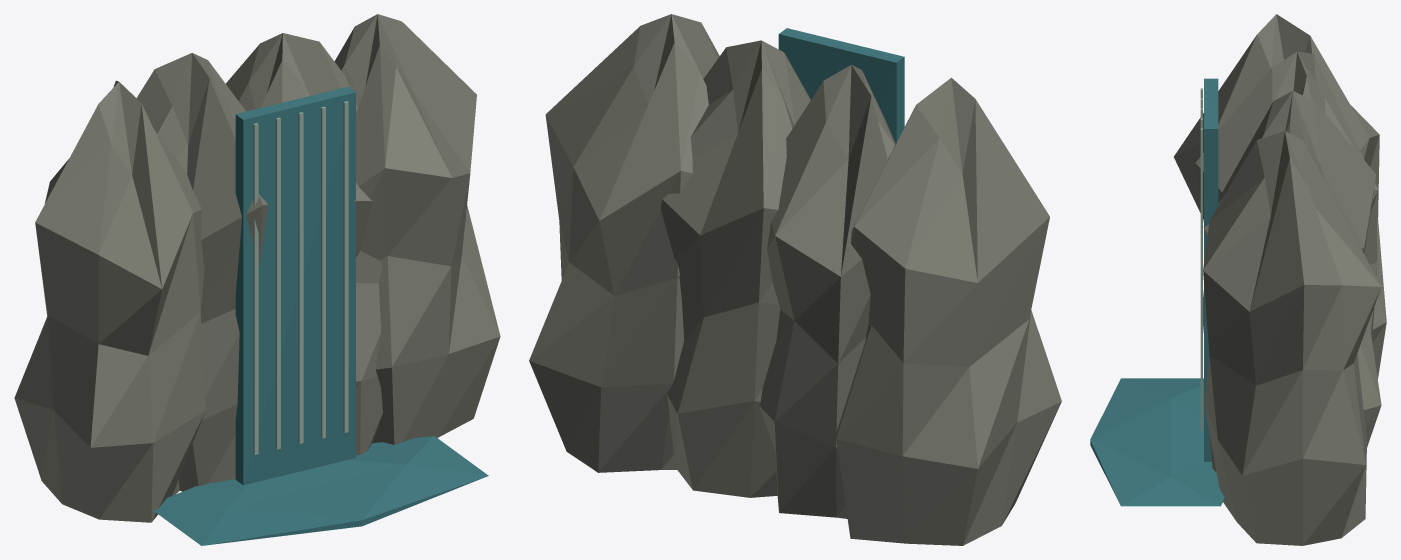
File: waterfall.glb
3 renders of one model, left to right at view 1: azimuth 30°, elevation 25°; view 2: azimuth 150°, elevation 25°; view 3: azimuth 270°, elevation 25°, orthographic. The views are drawn at different scales.
Parts seen in each view (by area): view 1: world-scenery/waterfall; view 2: world-scenery/waterfall; view 3: world-scenery/waterfall.
Boxes of the visible parts, bbox=[...] form: world-scenery/waterfall: bbox=[14, 14, 500, 545]; world-scenery/waterfall: bbox=[529, 14, 1061, 545]; world-scenery/waterfall: bbox=[1090, 14, 1386, 545].
Size of the model in its own units: 4.1 by 3.5 by 2.5.
